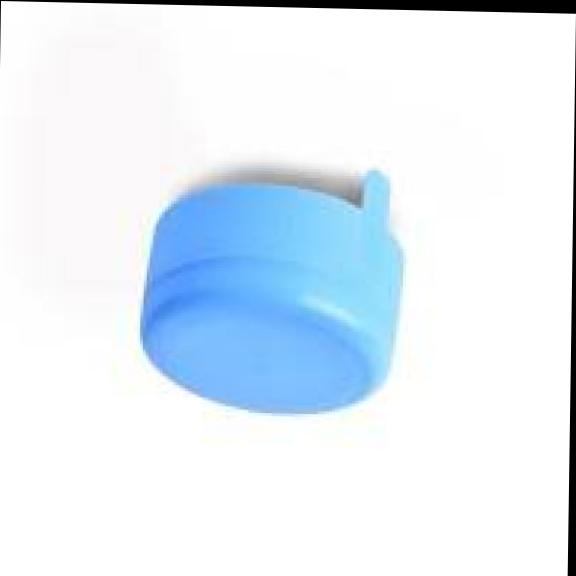Plastik: (140, 167, 405, 416)
